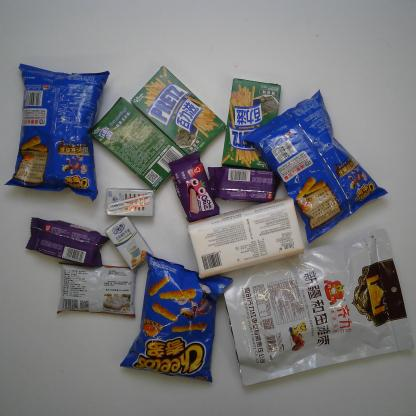Dessert: (89, 97, 187, 190), (129, 66, 227, 157), (218, 76, 282, 172), (26, 218, 110, 268), (169, 152, 221, 224), (205, 166, 279, 204)
Dried Food: (224, 228, 414, 388)
Milk: (106, 214, 153, 270), (102, 186, 157, 217)
Puffed Food: (244, 91, 390, 244), (118, 252, 233, 384), (4, 62, 110, 201)
Seasoner: (53, 260, 140, 318)
Tissue: (188, 197, 303, 279)
